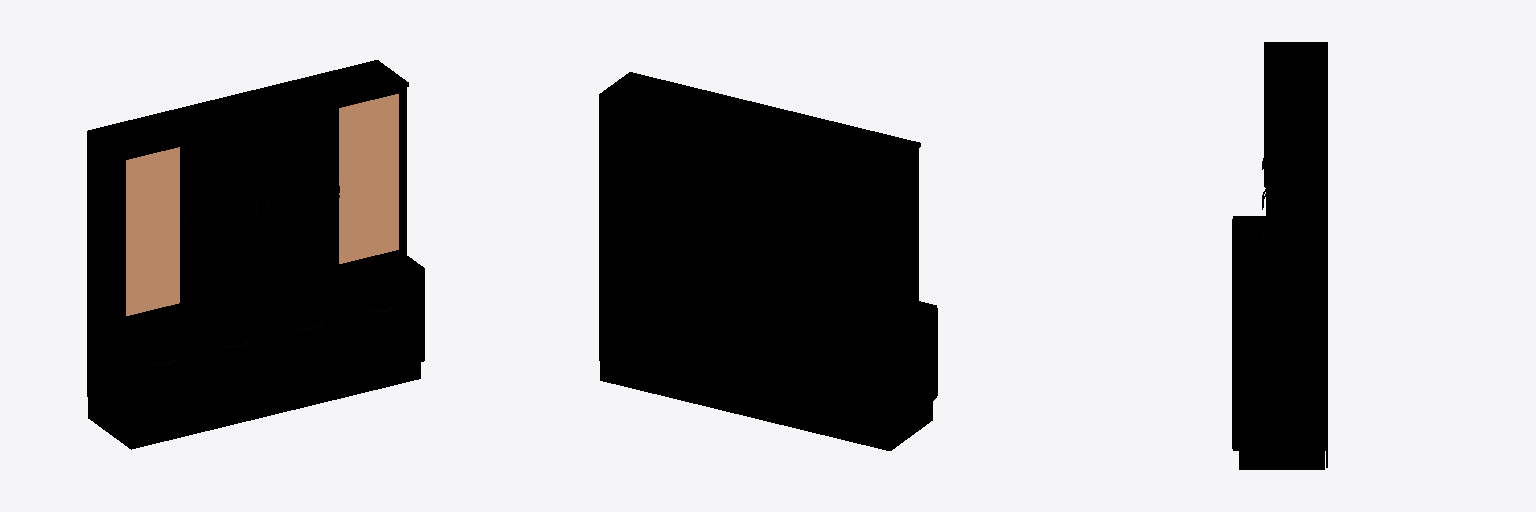
Rendered from Шкаф для посуды.obj.
3 views of the same model, side by side, from view 1: azimuth 30°, elevation 25°; view 2: azimuth 150°, elevation 25°; view 3: azimuth 270°, elevation 25° (orthographic).
Visible parts, largest first — view 1: blackcabin_1_1, blackcabin6460_3_3; view 2: blackcabin_1_1; view 3: blackcabin_1_1.
Boxes of the visible parts, <box> form: blackcabin_1_1: <box>87,60,424,449</box>; blackcabin6460_3_3: <box>126,94,398,315</box>; blackcabin_1_1: <box>599,72,937,450</box>; blackcabin_1_1: <box>1232,42,1327,469</box>.
Size of the model in its own units: 223 by 211 by 64.5.